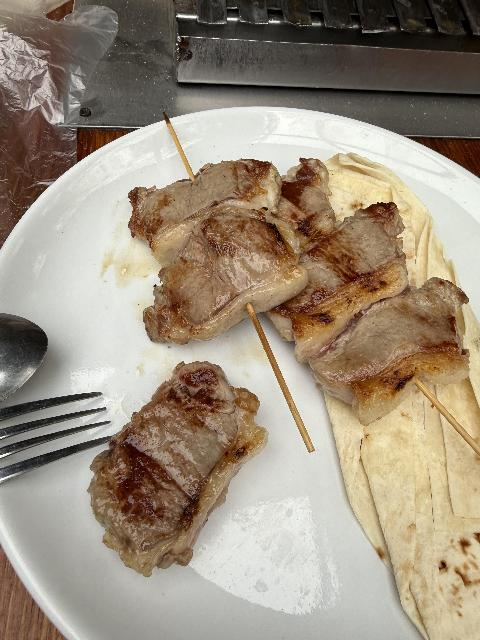Metal: (0, 376, 108, 490), (0, 303, 52, 400)
Organik: (100, 365, 260, 562), (283, 206, 397, 340), (325, 289, 457, 398), (157, 232, 314, 314), (119, 163, 289, 227)
